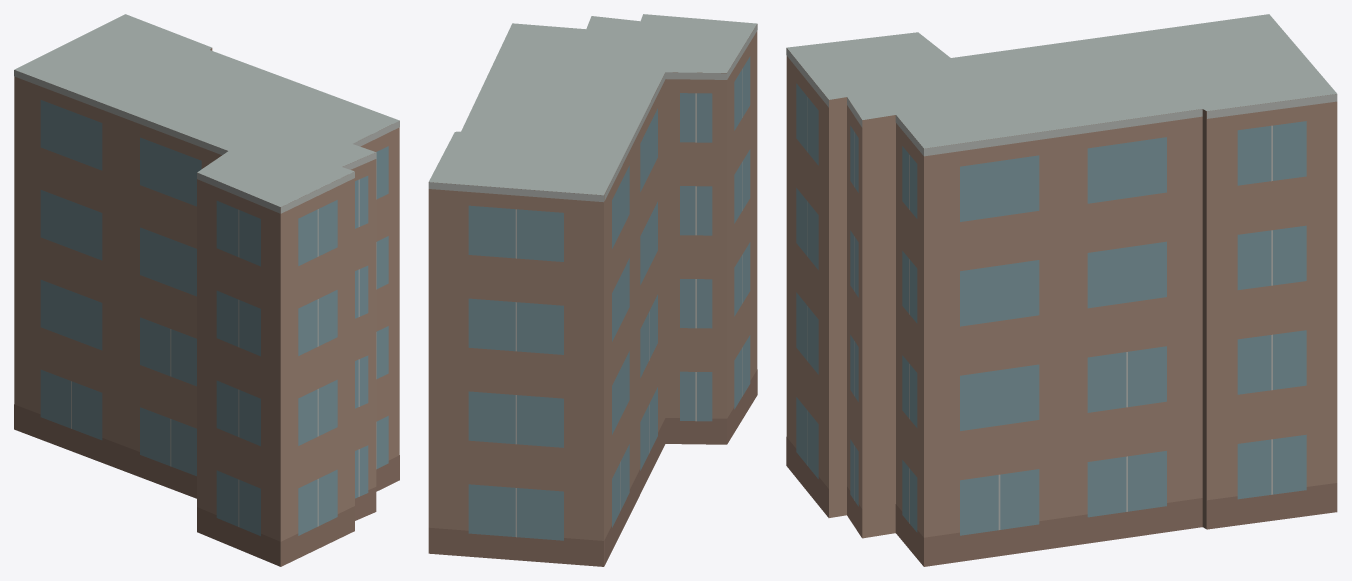
File: survey-upis-32998833.glb
The picture shows the model from 3 angles, left to right: view 1: azimuth 30°, elevation 25°; view 2: azimuth 150°, elevation 25°; view 3: azimuth 270°, elevation 25°; orthographic projection. The views are drawn at different scales.
Visible parts, largest first — view 1: survey-upis-32998833.tmp; view 2: survey-upis-32998833.tmp; view 3: survey-upis-32998833.tmp.
Boxes of the visible parts, x1,y1,x2,y2 form: survey-upis-32998833.tmp: [14, 14, 399, 566]; survey-upis-32998833.tmp: [428, 14, 757, 566]; survey-upis-32998833.tmp: [786, 14, 1337, 566].
Bounding box in the file's own units: 9.12 × 13.2 × 15.77.
